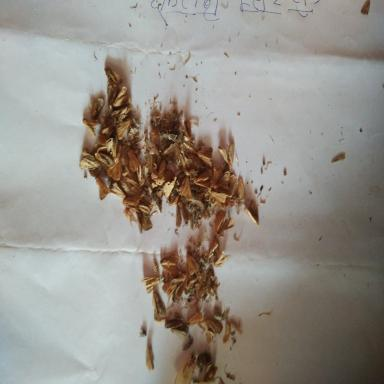pbw: (173, 354, 196, 384), (202, 315, 223, 344), (79, 146, 101, 170), (214, 210, 234, 236), (175, 200, 194, 226), (160, 253, 180, 277), (114, 116, 133, 140), (218, 142, 234, 169), (185, 251, 201, 277), (170, 276, 188, 299), (113, 86, 131, 108), (195, 146, 213, 168), (141, 276, 164, 293), (88, 97, 105, 120), (193, 169, 213, 188), (136, 210, 152, 233), (178, 174, 192, 200), (82, 118, 101, 137), (95, 175, 109, 200), (106, 160, 123, 180), (152, 290, 166, 314), (215, 170, 229, 192), (136, 164, 149, 186), (122, 194, 142, 206), (186, 311, 204, 324), (164, 318, 183, 330)
